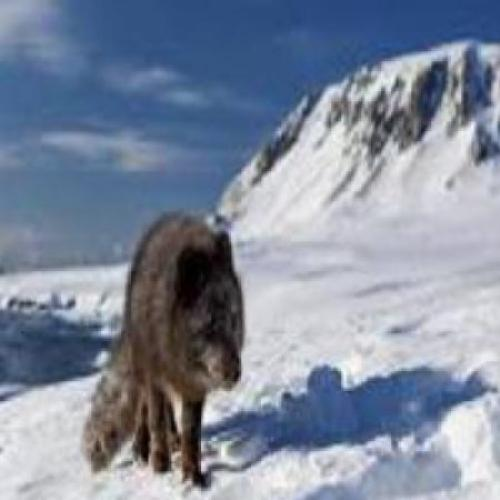arctic_fox-endangered: (81, 211, 247, 494)
